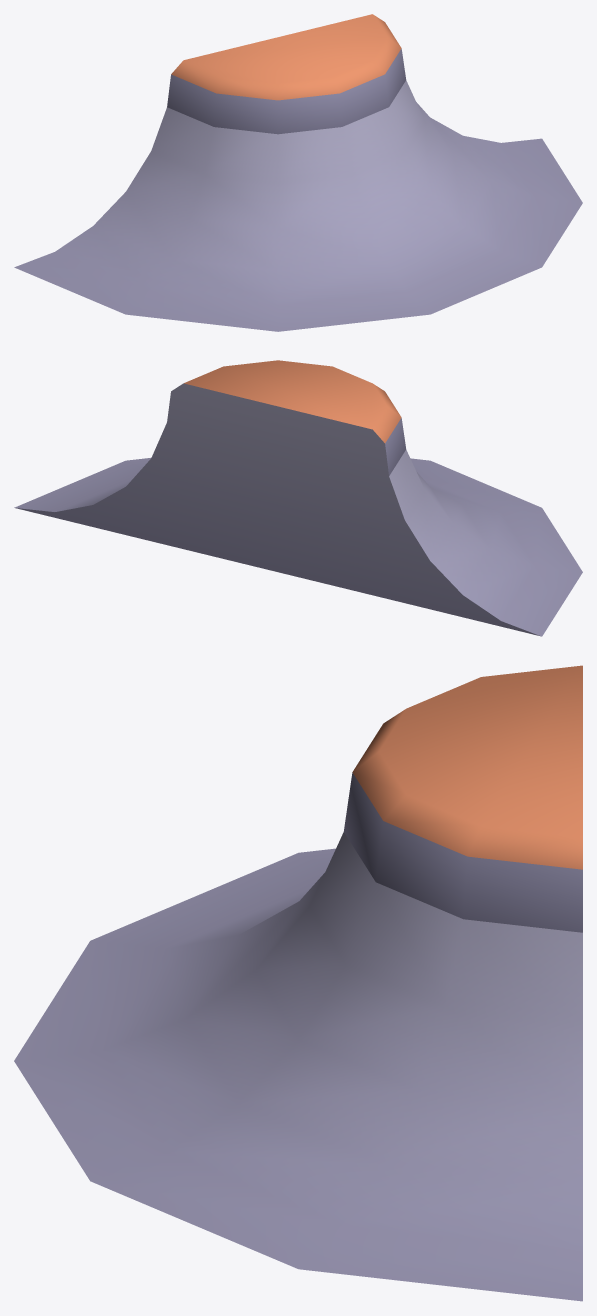
The model's file is obstacle-end.fbx.
3 renders of one model, top to bottom at view 1: azimuth 30°, elevation 25°; view 2: azimuth 150°, elevation 25°; view 3: azimuth 270°, elevation 25°, orthographic. The views are drawn at different scales.
Parts seen in each view (by area): view 1: obstacle-end; view 2: obstacle-end; view 3: obstacle-end.
Boxes of the visible parts, bbox=[...] form: obstacle-end: bbox=[14, 14, 582, 331]; obstacle-end: bbox=[14, 360, 582, 636]; obstacle-end: bbox=[14, 665, 582, 1301].
Size of the model in its own units: 100 by 30 by 50.
1 material, 1 textured.
